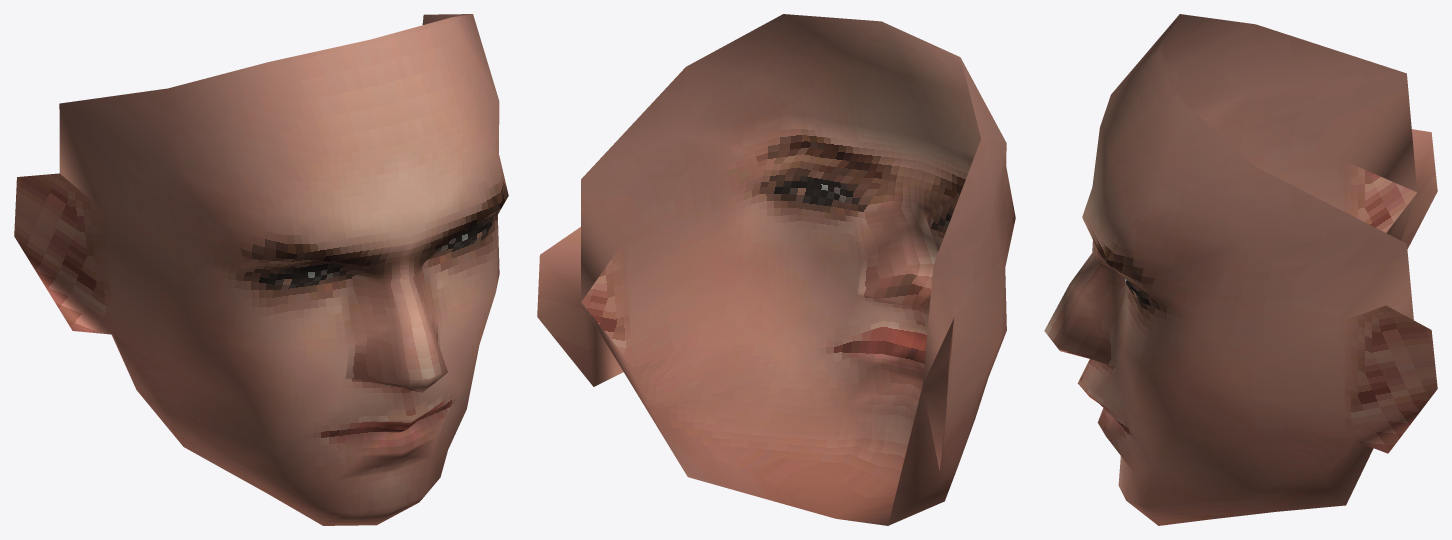
The picture shows the model from 3 angles, left to right: view 1: azimuth 30°, elevation 25°; view 2: azimuth 150°, elevation 25°; view 3: azimuth 270°, elevation 25°; orthographic projection. The views are drawn at different scales.
Visible parts, largest first — view 1: editpl_m-0000-102, editpl_m-0000-101; view 2: editpl_m-0000-102, editpl_m-0000-101; view 3: editpl_m-0000-102, editpl_m-0000-101.
Boxes of the visible parts, x1,y1,x2,y2 form: editpl_m-0000-102: [14, 14, 508, 454]; editpl_m-0000-101: [112, 334, 466, 525]; editpl_m-0000-102: [537, 14, 1015, 470]; editpl_m-0000-101: [582, 263, 987, 525]; editpl_m-0000-102: [1044, 14, 1437, 466]; editpl_m-0000-101: [1049, 193, 1416, 525].
Bounding box in the file's own units: 17.18 × 18.64 × 14.44.
Materials: 1 (1 with a texture image).
